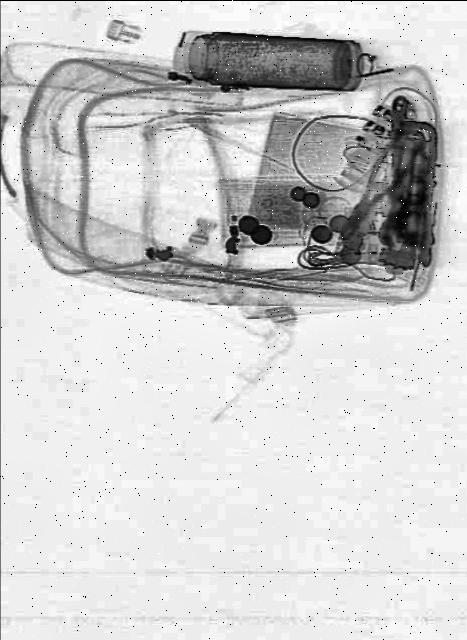Pliers: (329, 139, 411, 253)
Wrench: (377, 95, 415, 247)
